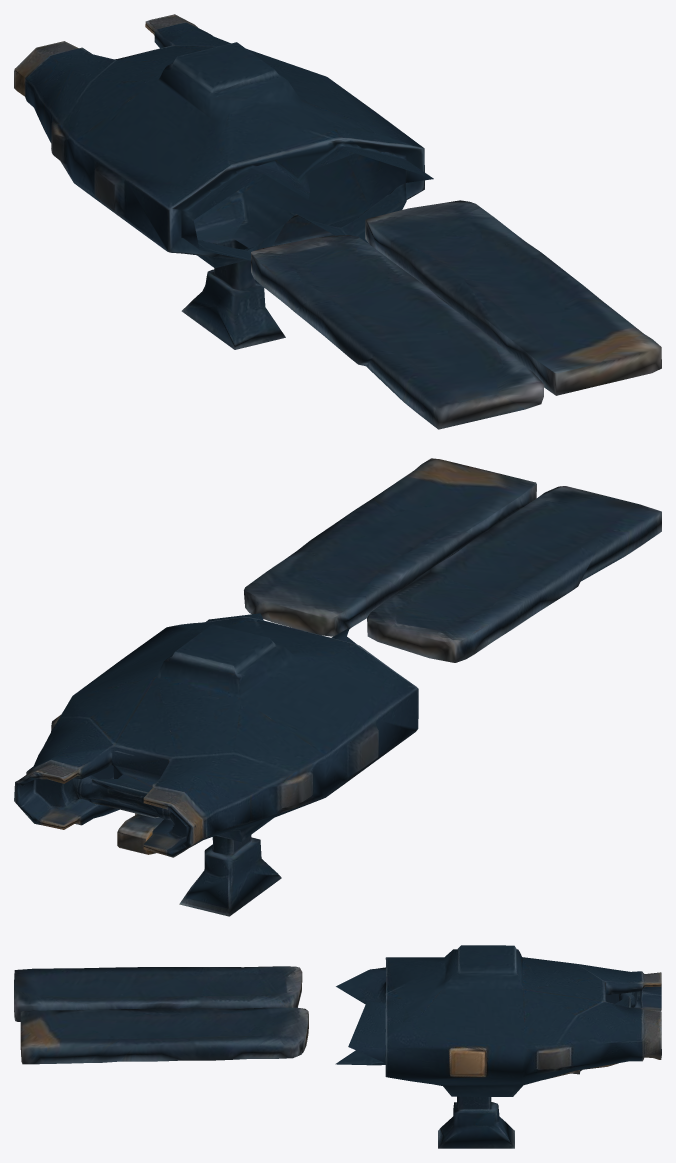
The model's file is rail.glb.
3 renders of one model, top to bottom at view 1: azimuth 30°, elevation 25°; view 2: azimuth 150°, elevation 25°; view 3: azimuth 270°, elevation 25°, orthographic. The views are drawn at different scales.
Visible parts, largest first — view 1: rail-Meshy-cleaned; view 2: rail-Meshy-cleaned; view 3: rail-Meshy-cleaned.
Boxes of the visible parts, x1=… form: rail-Meshy-cleaned: x1=14, y1=14, x2=661, y2=429; rail-Meshy-cleaned: x1=14, y1=458, x2=661, y2=916; rail-Meshy-cleaned: x1=14, y1=945, x2=661, y2=1148.
Bounding box in the file's own units: 0.715 × 0.6495 × 2.07.
Materials: 1 (1 with a texture image).
